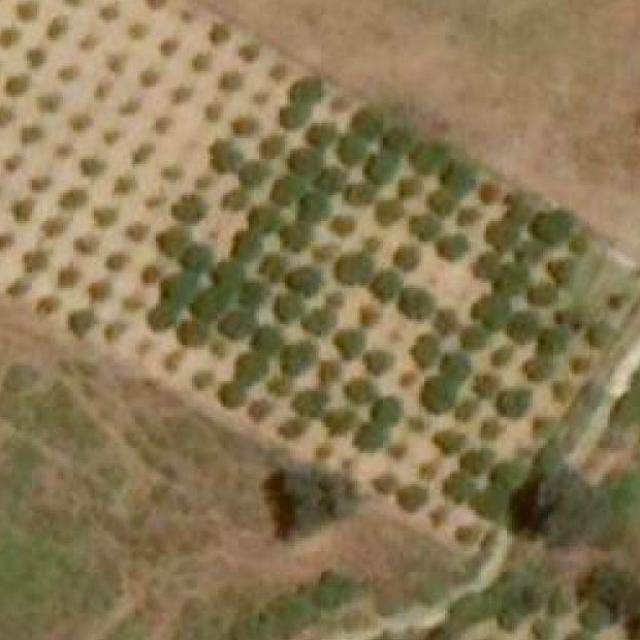Tree: (257, 466, 355, 539), (515, 464, 591, 546), (532, 208, 568, 244), (424, 376, 453, 412), (414, 146, 448, 174), (498, 262, 528, 293), (212, 142, 242, 172), (321, 282, 351, 312), (497, 388, 528, 417), (283, 342, 314, 371), (156, 229, 190, 255), (73, 30, 105, 57), (161, 278, 197, 301), (355, 425, 389, 449), (195, 293, 229, 317), (479, 298, 510, 324), (221, 312, 252, 338), (238, 355, 268, 381), (490, 221, 520, 247), (191, 366, 217, 396), (504, 192, 530, 221), (318, 167, 347, 193), (581, 602, 610, 628), (434, 431, 466, 454), (396, 487, 424, 513), (402, 291, 432, 315), (336, 257, 366, 281), (172, 198, 202, 222), (447, 169, 476, 193), (368, 157, 397, 181), (445, 474, 469, 503), (274, 178, 304, 201), (293, 148, 319, 174), (97, 0, 123, 26), (354, 113, 383, 136), (476, 493, 505, 516), (383, 131, 414, 152), (510, 314, 536, 339), (364, 350, 394, 371), (180, 322, 210, 343), (426, 193, 456, 214), (56, 60, 86, 81), (526, 358, 552, 382), (218, 384, 244, 408), (233, 234, 259, 258), (340, 136, 366, 160), (4, 74, 30, 98), (458, 204, 482, 230), (150, 112, 176, 136), (293, 80, 324, 100), (297, 391, 326, 412), (248, 211, 278, 231), (378, 400, 401, 426), (334, 333, 360, 356), (242, 283, 268, 306), (476, 252, 499, 278), (244, 159, 267, 185), (290, 271, 319, 291), (445, 355, 469, 379), (257, 329, 281, 353), (285, 224, 309, 248), (528, 283, 556, 303), (182, 250, 210, 270), (324, 412, 355, 430), (541, 332, 567, 353), (216, 267, 242, 288), (440, 236, 466, 257), (300, 198, 326, 219), (114, 95, 140, 116), (160, 162, 186, 183), (150, 307, 177, 327), (56, 190, 86, 208), (435, 312, 458, 335), (419, 334, 435, 366), (321, 360, 342, 384), (306, 311, 334, 329), (584, 324, 608, 345), (397, 178, 422, 198), (347, 185, 372, 205), (282, 107, 308, 126), (114, 174, 140, 193), (461, 329, 484, 350), (376, 203, 399, 224), (500, 608, 523, 629), (350, 379, 374, 399), (412, 218, 438, 236), (376, 273, 396, 296), (82, 157, 105, 177), (262, 257, 286, 276), (104, 252, 128, 271), (479, 417, 500, 438), (11, 200, 32, 221), (533, 618, 553, 640), (267, 376, 291, 394), (520, 240, 541, 260), (280, 296, 300, 317), (476, 376, 496, 396), (399, 247, 419, 267), (140, 66, 159, 87), (308, 126, 334, 141), (233, 118, 259, 133), (17, 1, 37, 20), (37, 94, 58, 112), (27, 45, 45, 66), (107, 56, 128, 74), (280, 420, 303, 436), (218, 74, 241, 90), (261, 138, 280, 157), (42, 219, 66, 234), (20, 125, 40, 143), (210, 23, 228, 43), (73, 311, 92, 329), (8, 278, 27, 296), (132, 146, 151, 164), (171, 84, 190, 102), (0, 102, 13, 128), (37, 296, 58, 312), (223, 193, 244, 209), (0, 30, 22, 45), (239, 45, 259, 61), (491, 348, 512, 363), (455, 402, 476, 417), (94, 209, 115, 224), (71, 113, 92, 128), (192, 54, 213, 69), (73, 239, 92, 255), (140, 267, 159, 283), (205, 102, 221, 121), (249, 402, 269, 417), (89, 283, 109, 298), (25, 252, 45, 267), (47, 17, 63, 35), (55, 143, 73, 159), (158, 40, 176, 56), (333, 219, 352, 234), (3, 157, 22, 172), (331, 97, 347, 113), (61, 270, 76, 286), (130, 23, 146, 38), (566, 634, 594, 640), (0, 234, 11, 249)
